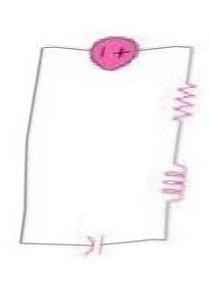Battery: (83, 27, 145, 83)
